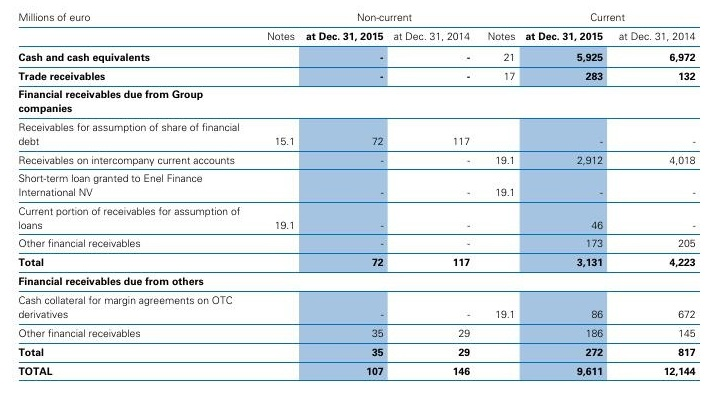table: (0, 0, 715, 395)
